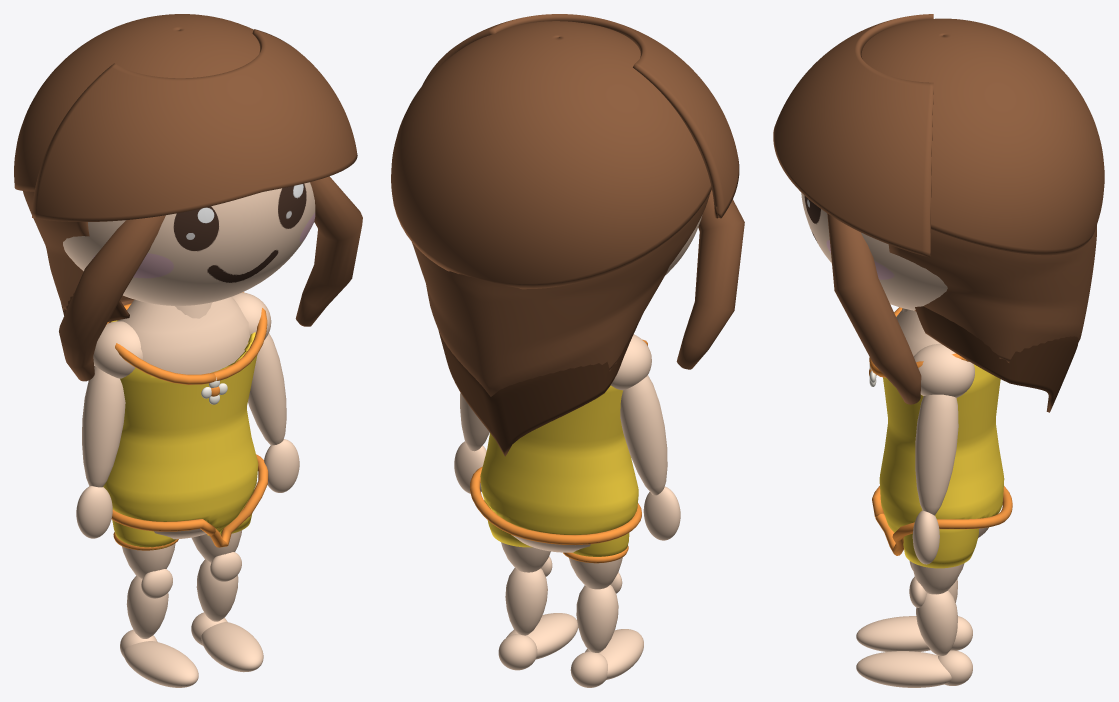
Rendered from lily2.glb.
3 views of the same model, side by side, from view 1: azimuth 30°, elevation 25°; view 2: azimuth 150°, elevation 25°; view 3: azimuth 270°, elevation 25° (orthographic).
Visible parts, largest first — view 1: Bangs, Suit, Head, HairCap, Torso, HairLockR, HairLockL, ArmR, ArmL, HairBack, FootBallR, FootBallL (+13 smaller); view 2: HairCap, HairBack, Suit, Bangs, HairBackShade, HairLockR, ArmR, CalfR, TrimHem, CalfL, FootBallL, HandR (+9 smaller); view 3: HairCap, Bangs, HairBack, Suit, HairLockL, HairBackShade, ArmL, Head, FootBallL, ShoulderCapL, CalfL, FootBallR (+6 smaller).
Part boxes in pixels (bbox=[...]): Bangs: bbox=[32, 29, 357, 221]; Suit: bbox=[103, 320, 258, 533]; Head: bbox=[63, 182, 315, 305]; HairCap: bbox=[14, 14, 259, 191]; Torso: bbox=[117, 297, 249, 539]; HairLockR: bbox=[59, 215, 165, 381]; HairLockL: bbox=[295, 176, 362, 326]; ArmR: bbox=[82, 366, 125, 487]; ArmL: bbox=[248, 333, 286, 445]; HairBack: bbox=[23, 191, 134, 322]; FootBallR: bbox=[123, 641, 198, 687]; FootBallL: bbox=[201, 622, 263, 672]; HairCap: bbox=[391, 21, 711, 289]; HairBack: bbox=[412, 192, 710, 396]; Suit: bbox=[480, 385, 638, 534]; Bangs: bbox=[422, 14, 739, 218]; HairBackShade: bbox=[438, 316, 641, 456]; HairLockR: bbox=[676, 189, 744, 369]; ArmR: bbox=[620, 375, 667, 495]; CalfR: bbox=[576, 585, 618, 652]; TrimHem: bbox=[470, 466, 641, 545]; CalfL: bbox=[505, 568, 547, 635]; FootBallL: bbox=[506, 613, 578, 659]; HandR: bbox=[643, 486, 680, 540]; HairCap: bbox=[861, 18, 1104, 255]; Bangs: bbox=[773, 14, 933, 257]; HairBack: bbox=[888, 225, 1096, 362]; Suit: bbox=[879, 364, 1004, 532]; HairLockL: bbox=[827, 213, 921, 404]; HairBackShade: bbox=[915, 306, 1078, 412]; ArmL: bbox=[915, 394, 958, 515]; Head: bbox=[801, 193, 947, 310]; FootBallL: bbox=[856, 651, 951, 687]; ShoulderCapL: bbox=[914, 343, 974, 397]; CalfL: bbox=[916, 590, 957, 655]; FootBallR: bbox=[856, 616, 930, 651].
Bounding box in the file's own units: 0.5272 × 1.03 × 0.4886.
Materials: 7 (1 with a texture image).
